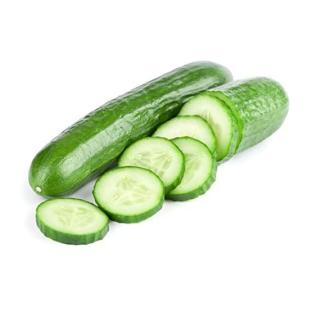Cucumber: (30, 62, 231, 196), (207, 78, 288, 151), (179, 92, 237, 161), (94, 167, 164, 223), (118, 138, 184, 193), (37, 198, 109, 244), (167, 138, 216, 200), (153, 116, 216, 154)
